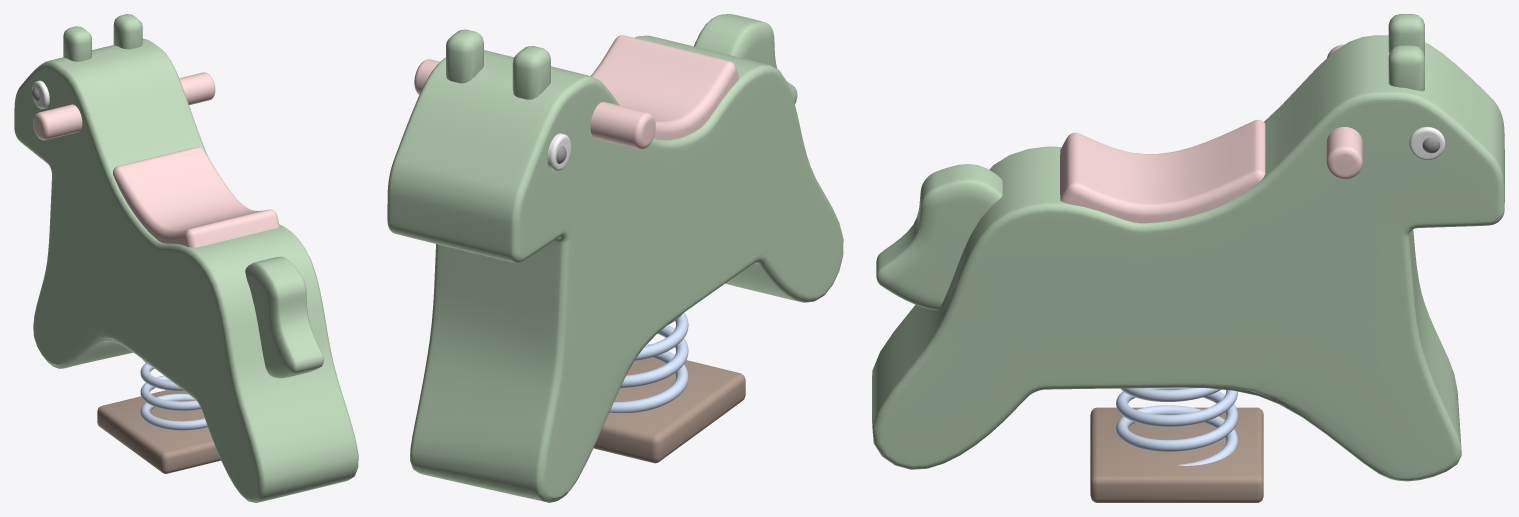
The model's file is mockma3.glb.
The picture shows the model from 3 angles, left to right: view 1: azimuth 30°, elevation 25°; view 2: azimuth 150°, elevation 25°; view 3: azimuth 270°, elevation 25°; orthographic projection. The views are drawn at different scales.
Visible parts, largest first — view 1: Polygon; view 2: Polygon; view 3: Polygon.
Boxes of the visible parts, x1,y1,x2,y2 form: Polygon: (14,14,358,502); Polygon: (387,14,843,502); Polygon: (872,14,1504,502).
Bounding box in the file's own units: 2.28 × 4.4 × 5.75.
